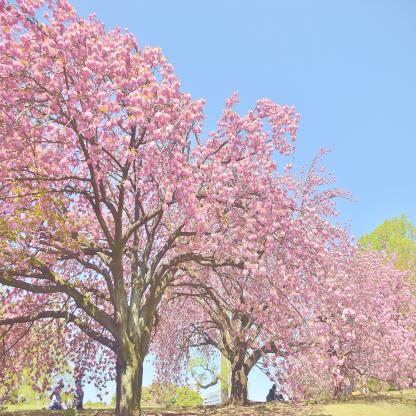YaeSakura: (148, 86, 416, 408), (0, 0, 208, 401)
